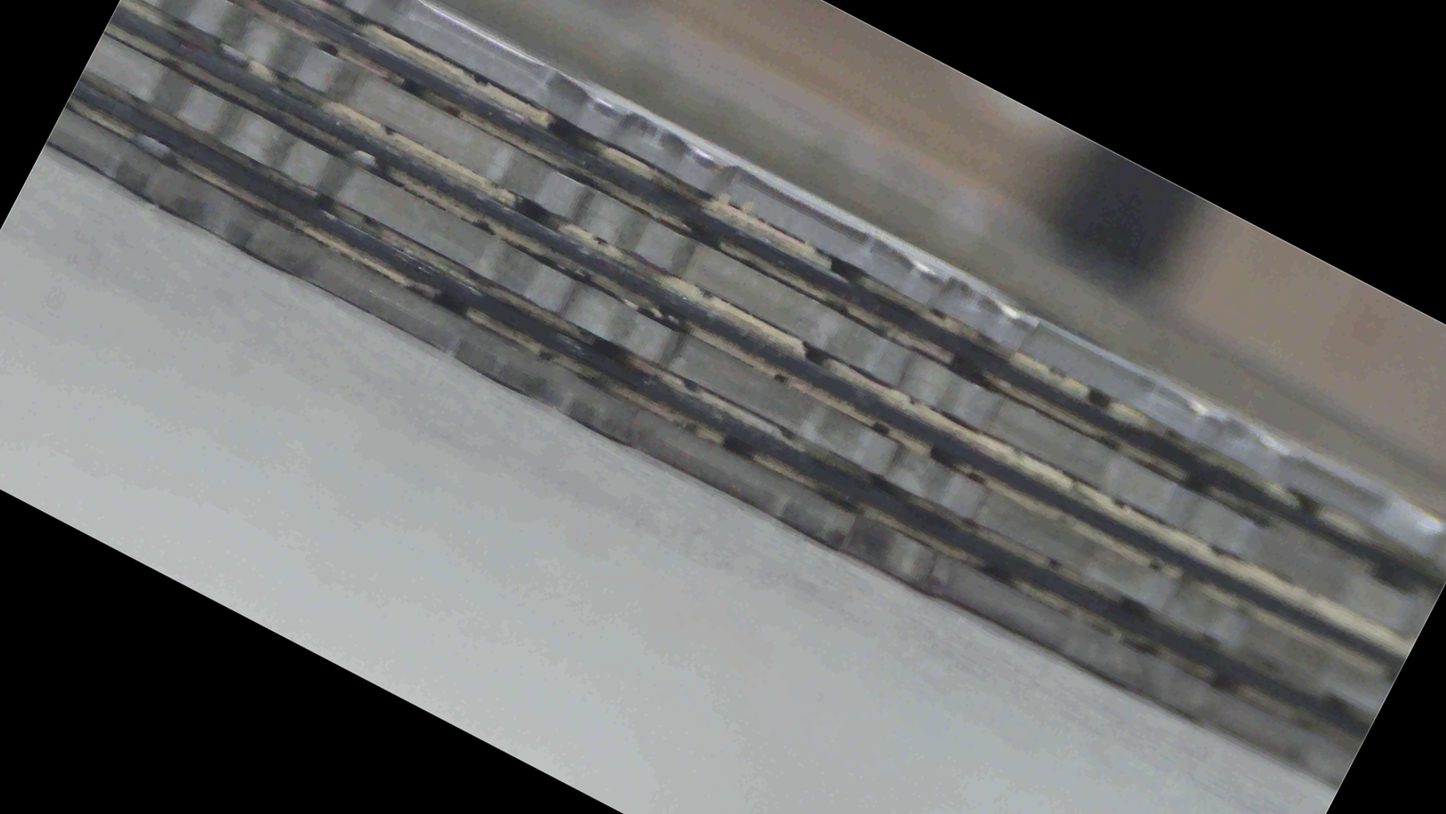Black metal plate: (50, 108, 1351, 784)
shiney metal plate: (9, 0, 1330, 621), (0, 0, 1351, 451), (22, 192, 1430, 558)
spacer: (123, 0, 1446, 529), (3, 332, 1443, 486), (0, 459, 1440, 498)
